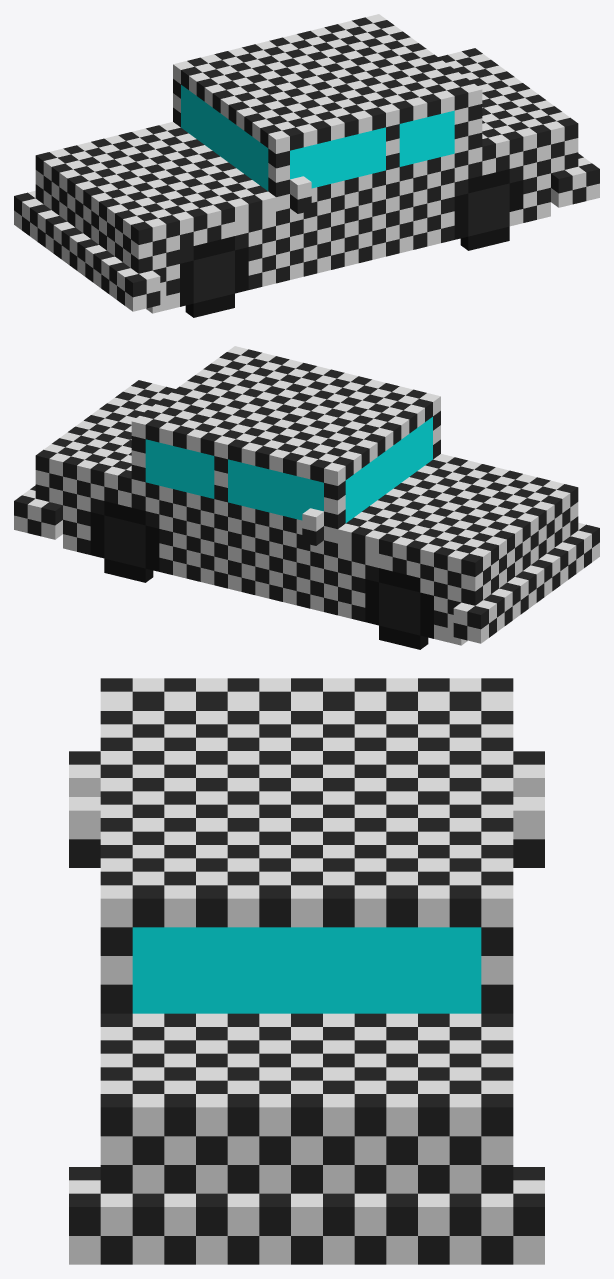
The model's file is invisible.glb.
The picture shows the model from 3 angles, top to bottom: view 1: azimuth 30°, elevation 25°; view 2: azimuth 150°, elevation 25°; view 3: azimuth 270°, elevation 25°; orthographic projection. The views are drawn at different scales.
Parts seen in each view (by area): view 1: Untitled.001; view 2: Untitled.001; view 3: Untitled.001.
Boxes of the visible parts, x1=… form: Untitled.001: x1=14, y1=14, x2=599, y2=317; Untitled.001: x1=14, y1=346, x2=599, y2=649; Untitled.001: x1=69, y1=678, x2=544, y2=1264.
Size of the model in its own units: 3.4 by 1.1 by 1.5.
1 material, 1 textured.
